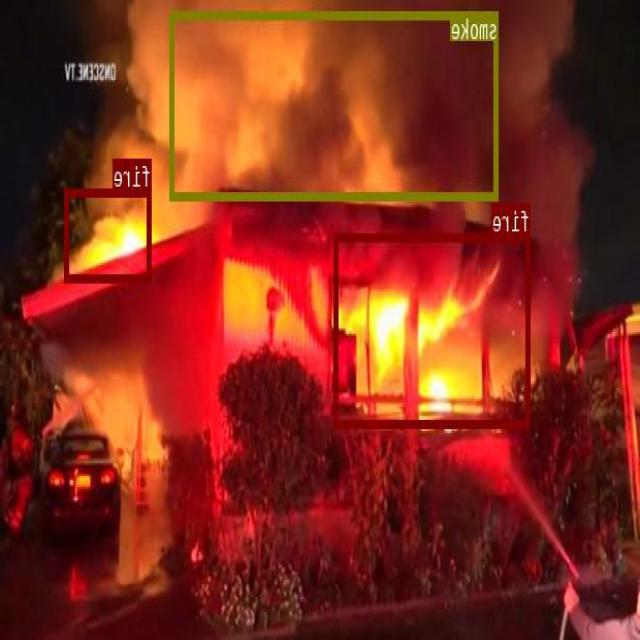fire: (335, 232, 531, 426), (66, 187, 153, 281)
smoke: (170, 10, 499, 199)
